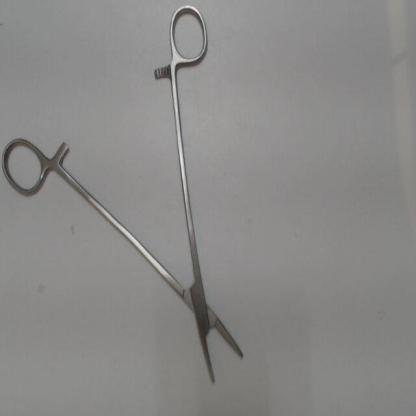8 Mayo Needle Holder: (0, 2, 253, 397)
